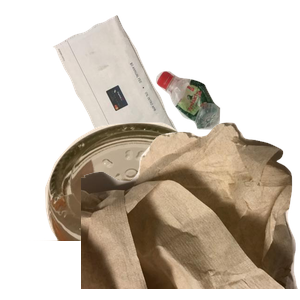glass: (22, 120, 233, 300)
paper: (51, 13, 230, 186)
plastic: (153, 68, 300, 190)
trash: (81, 120, 300, 300)
